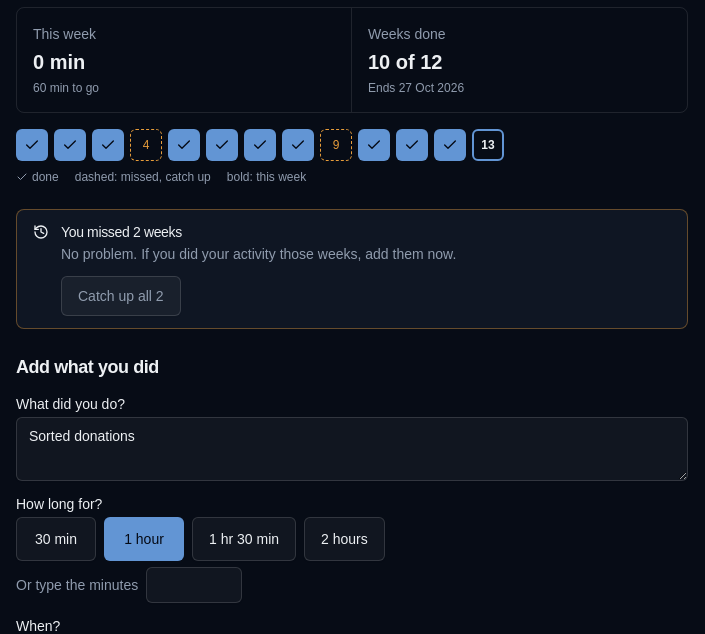
Scenario: logging a week › catching up fills in a day for every missed week and saves them together
Expected: the heading "You missed 2 weeks" is shown, [61, 224, 182, 240]
What coordinates should you click on to do the following:
click the button "Catch up all 2"
I would click on:
 (121, 296)
Its box is [61, 276, 181, 316].
(page scrolled)
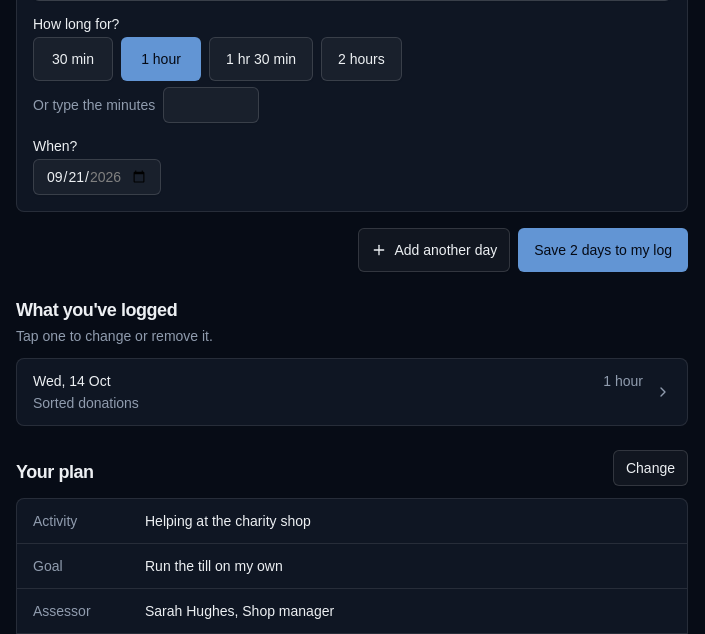
What coordinates should you click on to do the following:
click the button "Save 2 days to my log"
I would click on:
 (603, 250)
Its box is [518, 228, 688, 272].
(page scrolled)
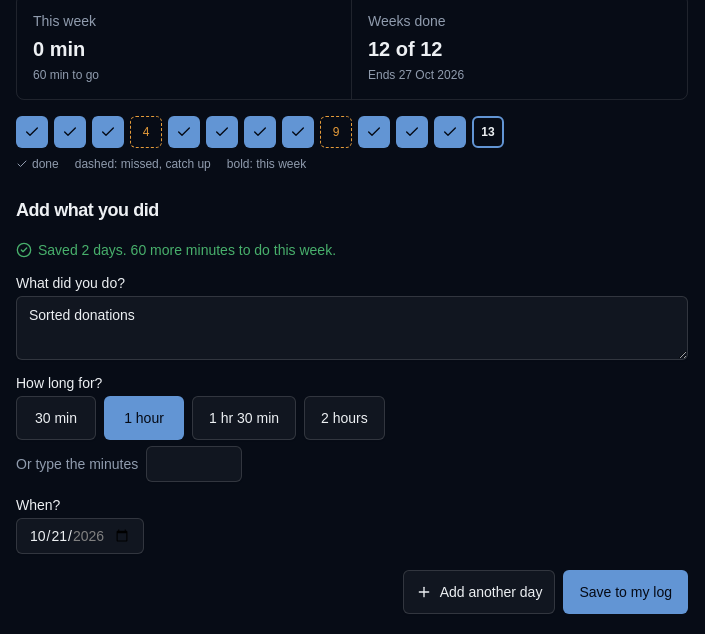
Expected: the message shows "Saved 2 days.", [38, 242, 336, 258]
